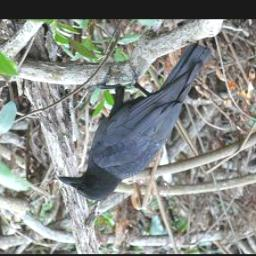Crow: (56, 39, 213, 202)
